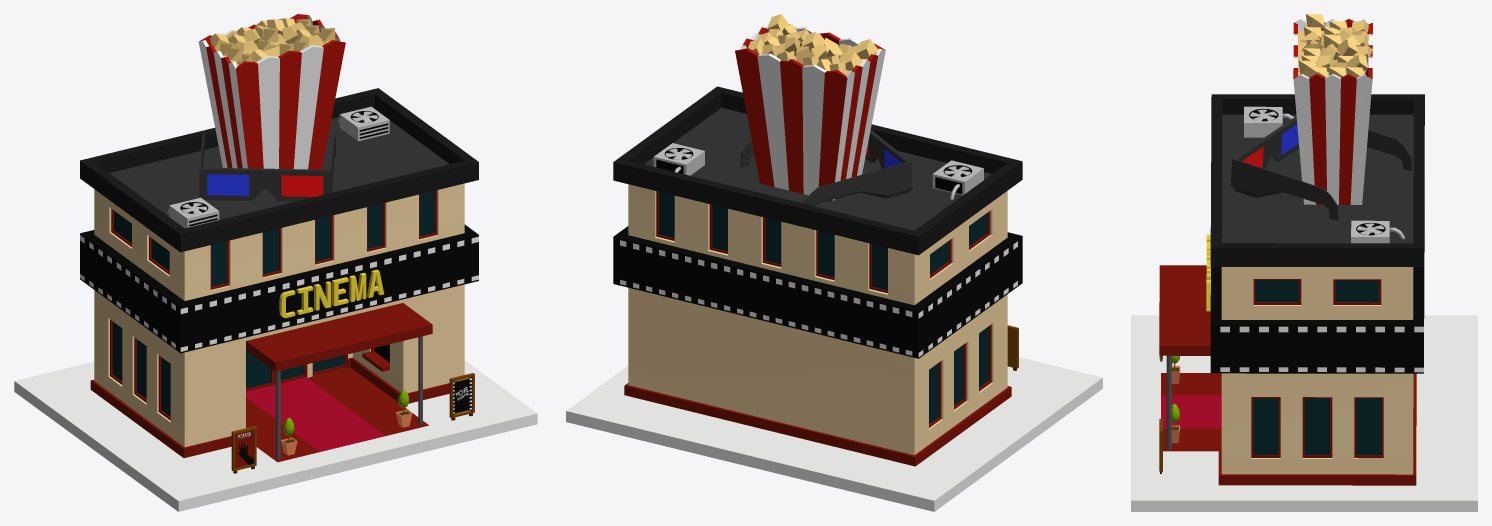
The model's file is Low_Poly_Cinema.glb.
The picture shows the model from 3 angles, left to right: view 1: azimuth 30°, elevation 25°; view 2: azimuth 150°, elevation 25°; view 3: azimuth 270°, elevation 25°; orthographic projection. The views are drawn at different scales.
Parts seen in each view (by area): view 1: cinema_M_Cinema_texture_0, cinema_floor_Cinema_texture_0, cinema_board01_Cinema_texture_0, cinema_board00_Cinema_texture_0, cinema_cooler00_metal_0, cinema_cooler01_metal_0; view 2: cinema_M_Cinema_texture_0, cinema_floor_Cinema_texture_0, cinema_cooler01_metal_0, cinema_cooler00_metal_0; view 3: cinema_M_Cinema_texture_0, cinema_floor_Cinema_texture_0, cinema_cooler01_metal_0, cinema_cooler00_metal_0.
Part boxes in pixels (x1=…): cinema_M_Cinema_texture_0: x1=80, y1=14, x2=478, y2=462; cinema_floor_Cinema_texture_0: x1=14, y1=360, x2=537, y2=511; cinema_board01_Cinema_texture_0: x1=231, y1=426, x2=256, y2=473; cinema_board00_Cinema_texture_0: x1=449, y1=373, x2=474, y2=420; cinema_cooler00_metal_0: x1=338, y1=106, x2=389, y2=141; cinema_cooler01_metal_0: x1=167, y1=197, x2=219, y2=228; cinema_M_Cinema_texture_0: x1=613, y1=14, x2=1022, y2=466; cinema_floor_Cinema_texture_0: x1=566, y1=357, x2=1102, y2=511; cinema_cooler01_metal_0: x1=932, y1=160, x2=983, y2=199; cinema_cooler00_metal_0: x1=653, y1=143, x2=704, y2=175; cinema_M_Cinema_texture_0: x1=1159, y1=14, x2=1424, y2=485; cinema_floor_Cinema_texture_0: x1=1131, y1=315, x2=1477, y2=511; cinema_cooler01_metal_0: x1=1244, y1=106, x2=1293, y2=137; cinema_cooler00_metal_0: x1=1351, y1=220, x2=1404, y2=243.
Size of the model in its own units: 809 by 794 by 640.
Materials: 2 (1 with a texture image).
